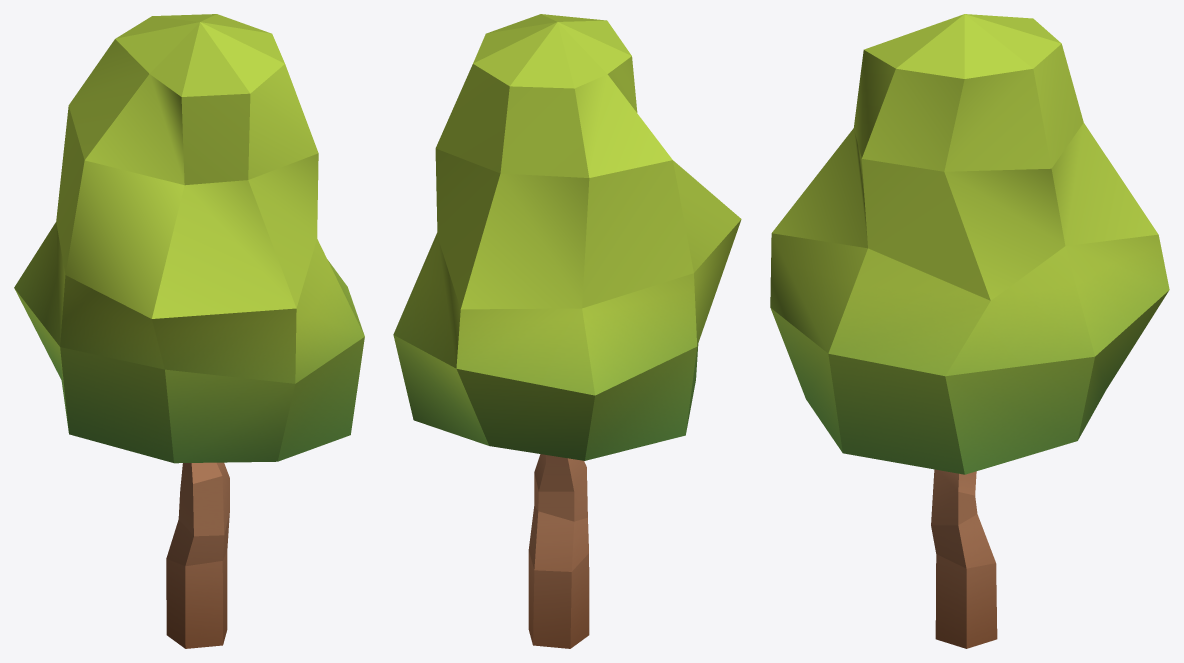
File: TREE001.fbx
3 views of the same model, side by side, from view 1: azimuth 30°, elevation 25°; view 2: azimuth 150°, elevation 25°; view 3: azimuth 270°, elevation 25° (orthographic).
Visible parts, largest first — view 1: polySurface2; view 2: polySurface2; view 3: polySurface2.
Part boxes in pixels (<box>): polySurface2: <box>14,14,364,648</box>; polySurface2: <box>393,14,741,648</box>; polySurface2: <box>770,14,1169,648</box>.
Bounding box in the file's own units: 4.91 × 10.38 × 6.05.
Materials: 1 (1 with a texture image).
